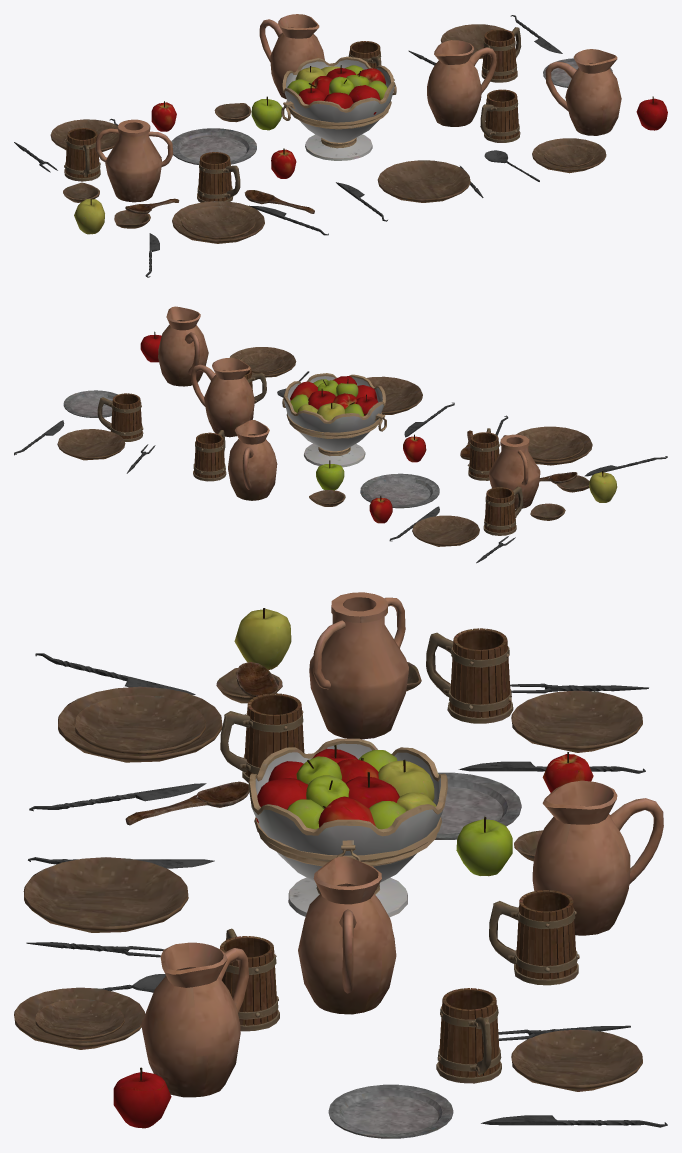
The model's file is SM_Rectangular_Table_onProp_66acc0.glb.
3 renders of one model, top to bottom at view 1: azimuth 30°, elevation 25°; view 2: azimuth 150°, elevation 25°; view 3: azimuth 270°, elevation 25°, orthographic. The views are drawn at different scales.
Bounding box in the file's own units: 2.55 × 0.3357 × 1.43.
7 materials, 7 textured.
